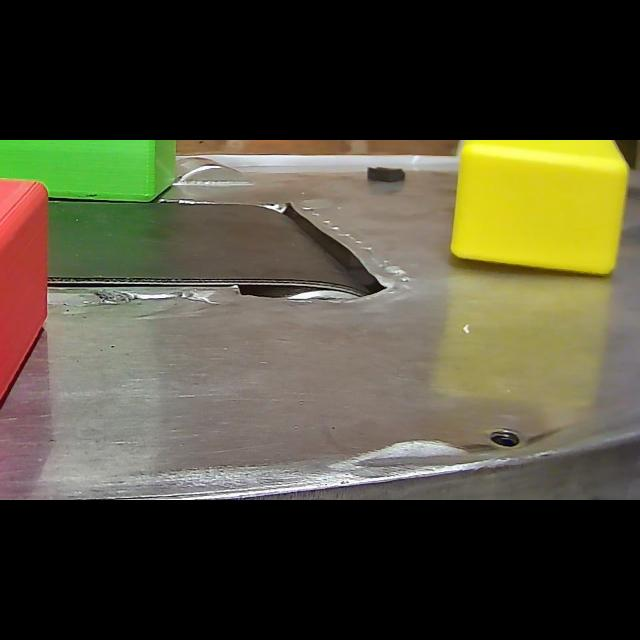greenBox: (0, 140, 184, 206)
redBox: (0, 165, 58, 423)
yellowBox: (442, 140, 636, 286)
